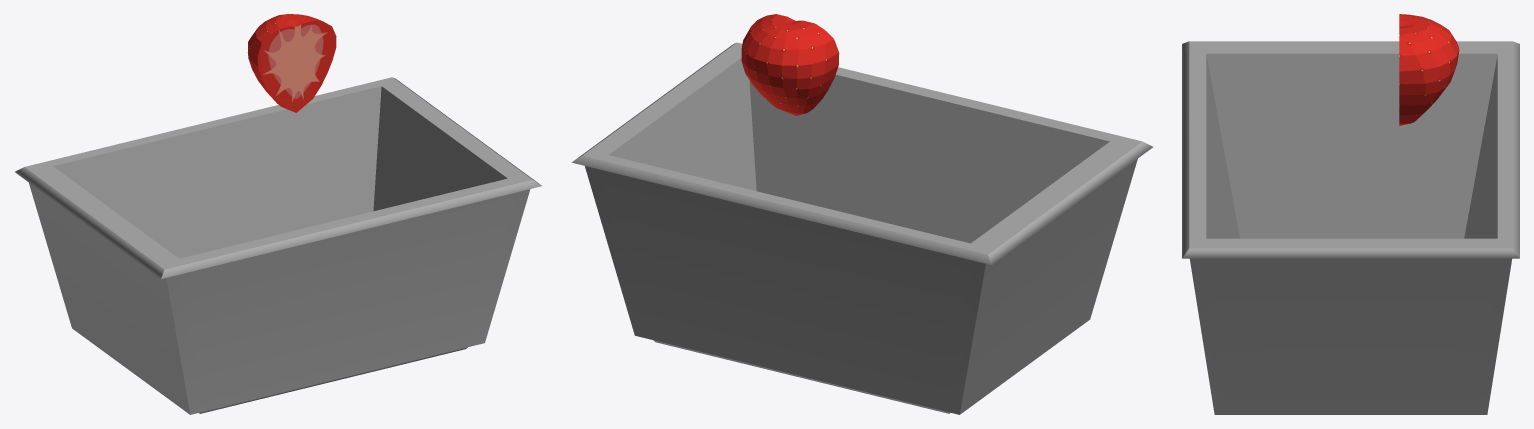
File: fruitmodel.fbx
3 renders of one model, left to right at view 1: azimuth 30°, elevation 25°; view 2: azimuth 150°, elevation 25°; view 3: azimuth 270°, elevation 25°, orthographic. The views are drawn at different scales.
Visible parts, largest first — view 1: plasticTub, strawberry; view 2: plasticTub, strawberry; view 3: plasticTub, strawberry.
Boxes of the visible parts, left/top/right/bottom form: plasticTub: left=15, top=77, right=541, bottom=414; strawberry: left=247, top=14, right=336, bottom=112; plasticTub: left=571, top=42, right=1152, bottom=414; strawberry: left=741, top=14, right=839, bottom=115; plasticTub: left=1182, top=41, right=1519, bottom=414; strawberry: left=1399, top=14, right=1459, bottom=125.
Bounding box in the file's own units: 7.12 × 5.2 × 4.73.
2 materials, 1 textured.
